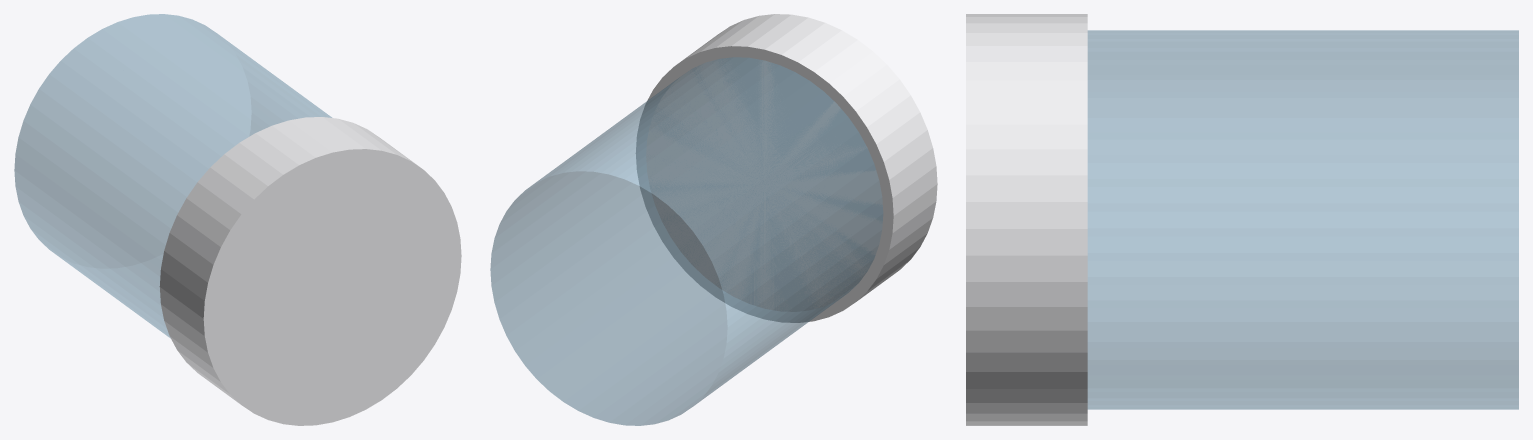
Rendered from vial.obj.
The picture shows the model from 3 angles, left to right: view 1: azimuth 30°, elevation 25°; view 2: azimuth 150°, elevation 25°; view 3: azimuth 270°, elevation 25°; orthographic projection. The views are drawn at different scales.
Parts seen in each view (by area): view 1: vial_lid, vial_cup; view 2: vial_cup, vial_lid; view 3: vial_cup, vial_lid.
Part boxes in pixels (x1,y1,x2,y2): vial_lid: (159,117,461,425); vial_cup: (14,14,331,338); vial_cup: (490,57,883,425); vial_lid: (636,14,937,322); vial_cup: (1087,30,1518,409); vial_lid: (966,14,1087,425).
Bounding box in the file's own units: 0.0542 × 0.0542 × 0.0727.
